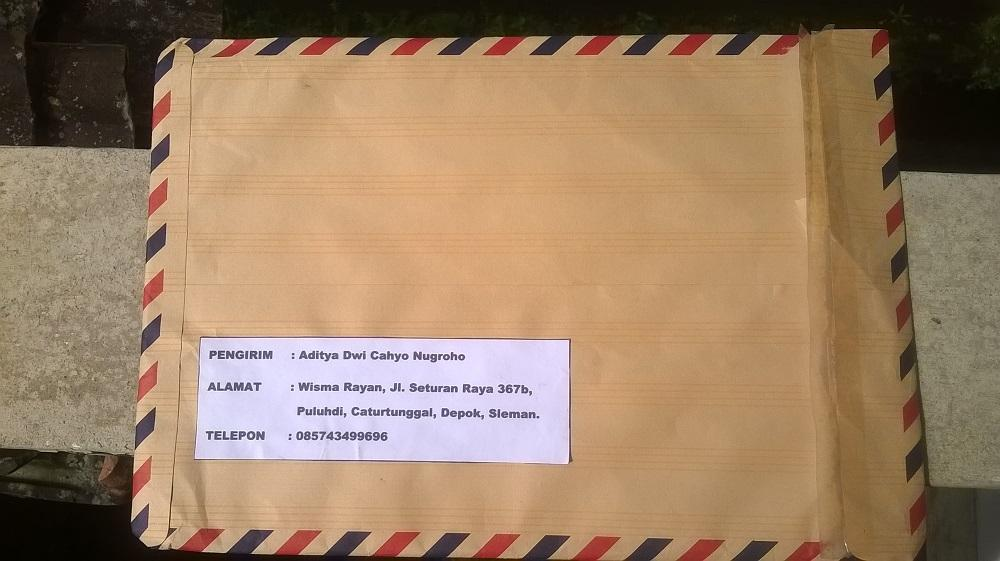undamaged: (125, 24, 933, 559)
